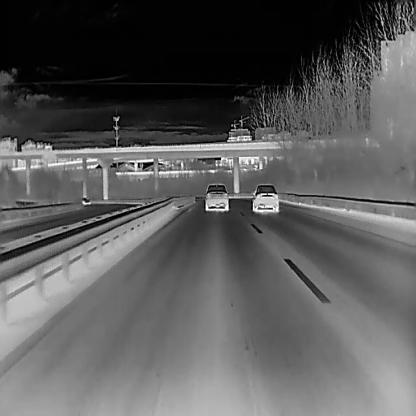car: (251, 184, 279, 212), (204, 183, 229, 210), (82, 197, 90, 204)
